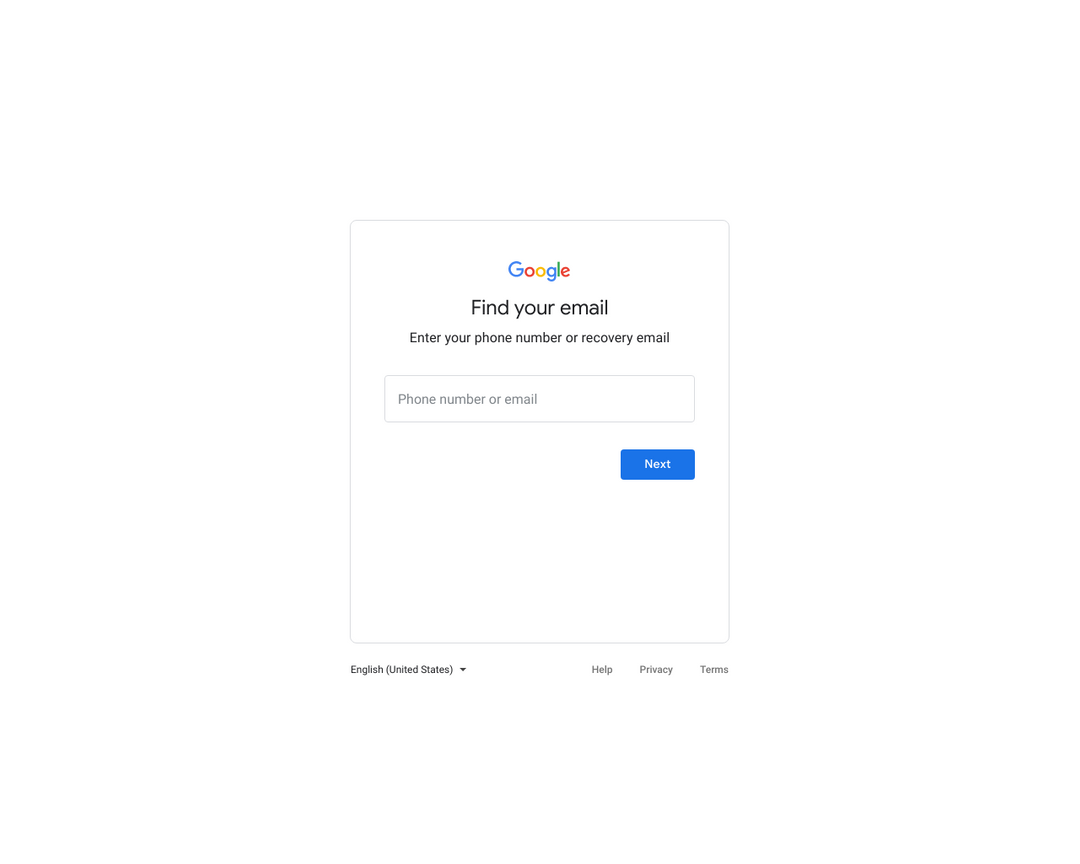Google: (503, 257, 574, 285)
